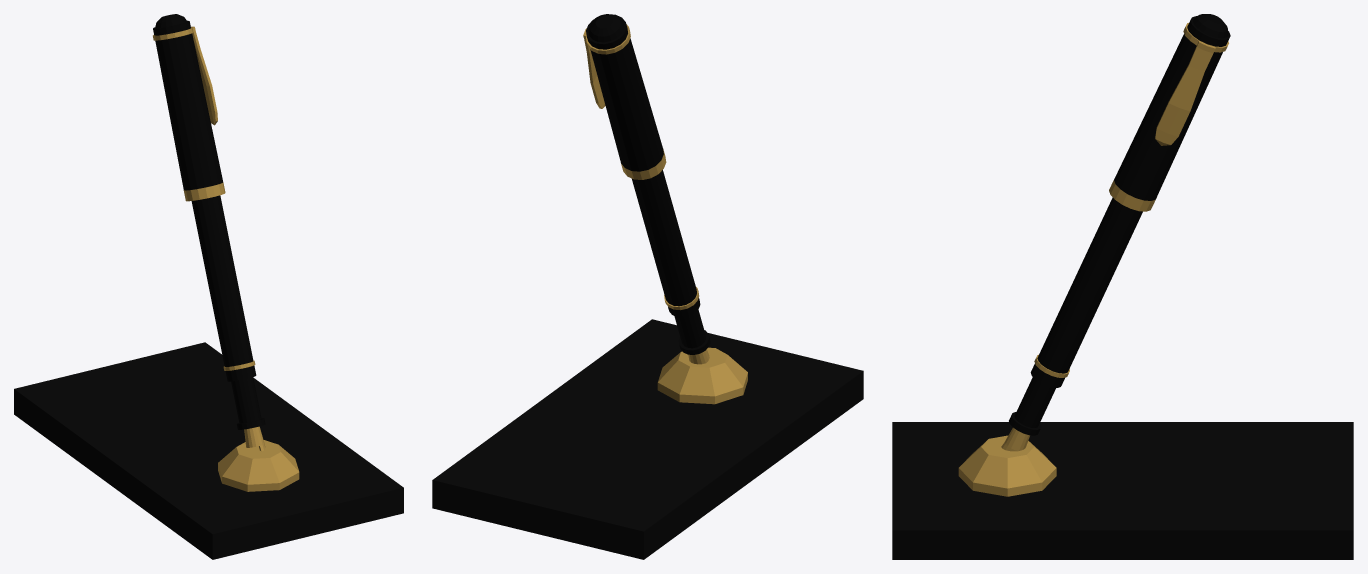
Rendered from pen.fbx.
3 views of the same model, side by side, from view 1: azimuth 30°, elevation 25°; view 2: azimuth 150°, elevation 25°; view 3: azimuth 270°, elevation 25° (orthographic). The views are drawn at different scales.
Visible parts, largest first — view 1: pen; view 2: pen; view 3: pen.
Boxes of the visible parts, box(x1,y1,x2,y2) form: pen: box(14, 14, 403, 559); pen: box(432, 14, 863, 559); pen: box(892, 14, 1353, 559).
Size of the model in its own units: 195 by 411 by 351.
